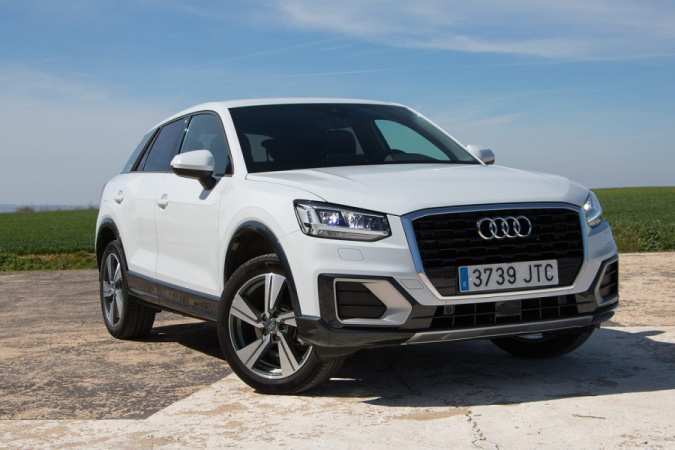audi: (465, 214, 540, 243)
